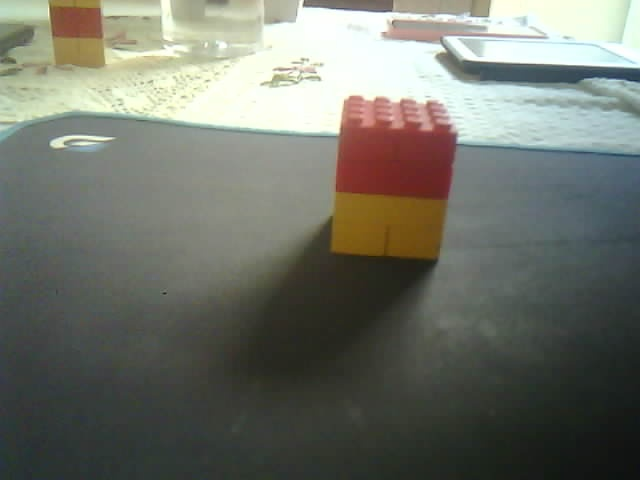lego: (325, 92, 459, 263), (49, 1, 107, 67)
